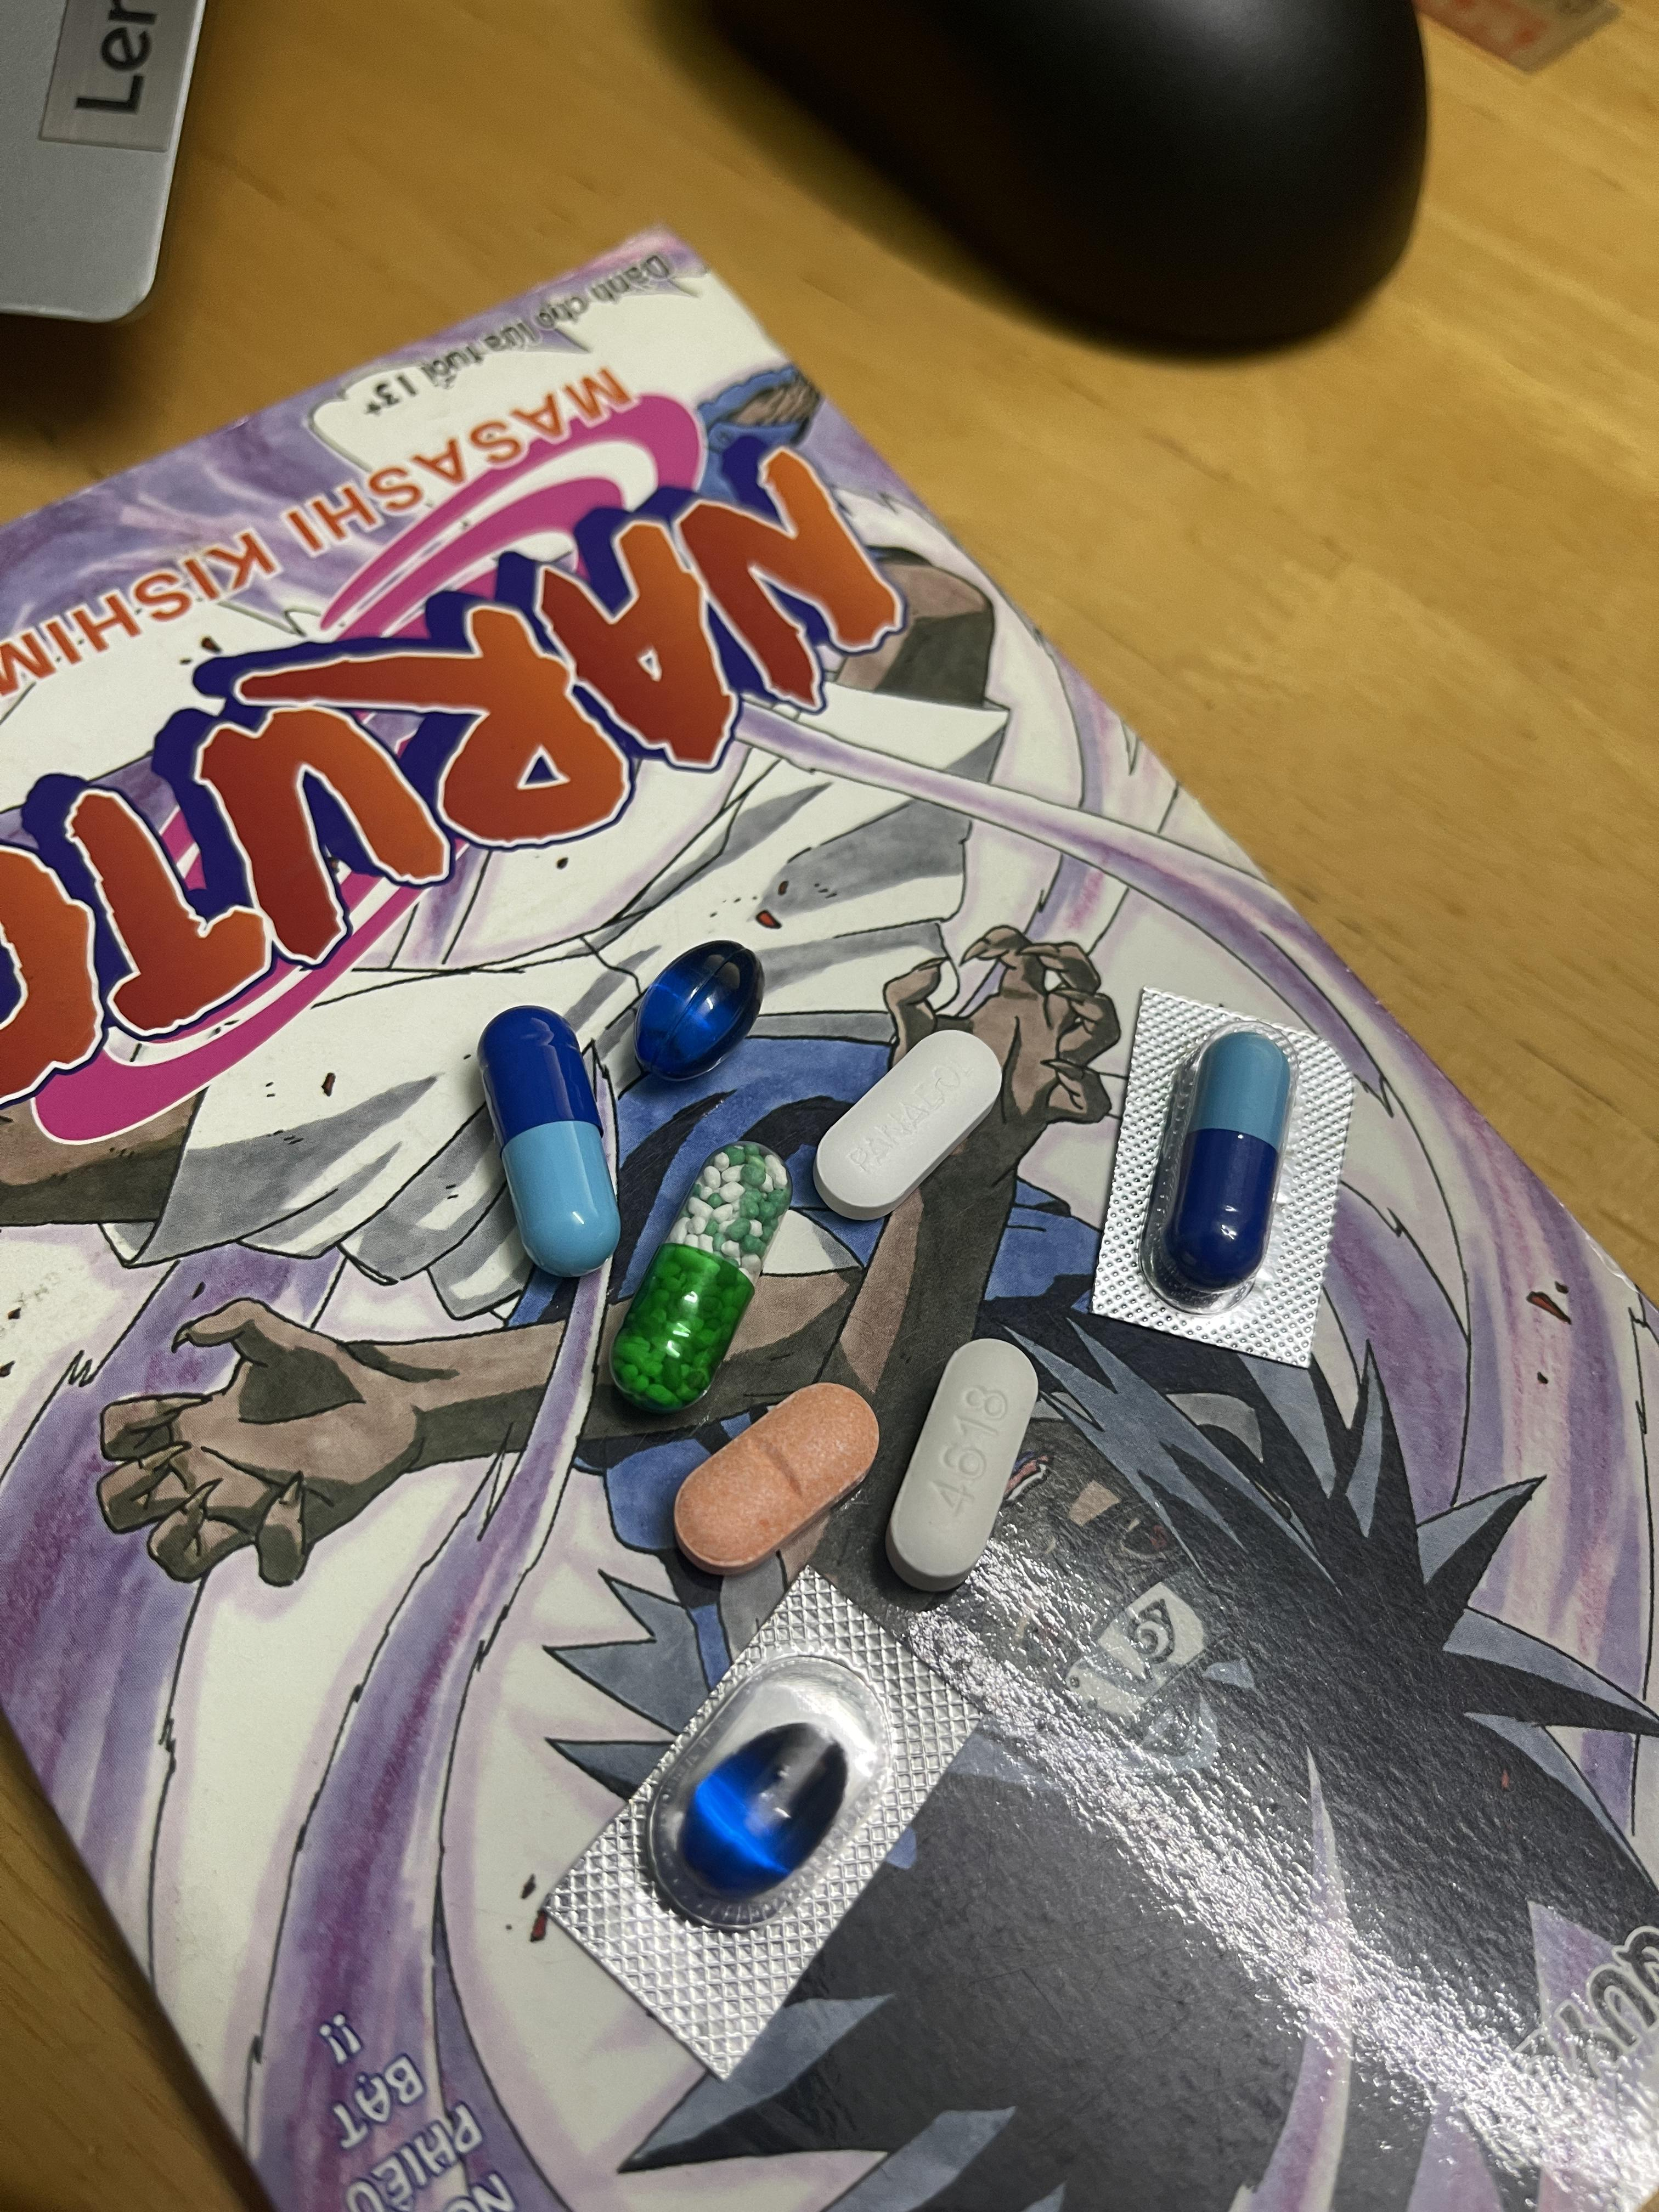Lincomyxin_500mg: (687, 1740, 836, 1893), (633, 939, 765, 1080)
Loratadine_10mg: (674, 1388, 877, 1569)
Paracetamol_350mg: (814, 1029, 1002, 1214)
Paracetamol_500mg: (887, 1338, 1040, 1592)
Paracetamol_650mg: (612, 1144, 793, 1406)
pill: (483, 1010, 613, 1275), (1161, 1031, 1290, 1294)
